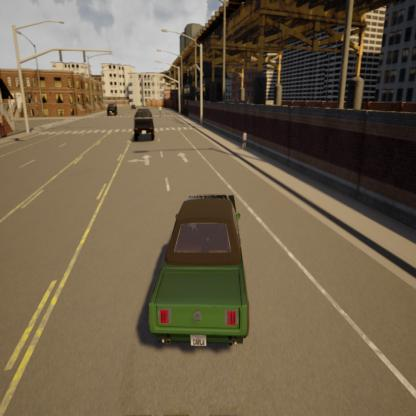Cars: (140, 159, 275, 369), (132, 96, 163, 144), (103, 90, 128, 124)
